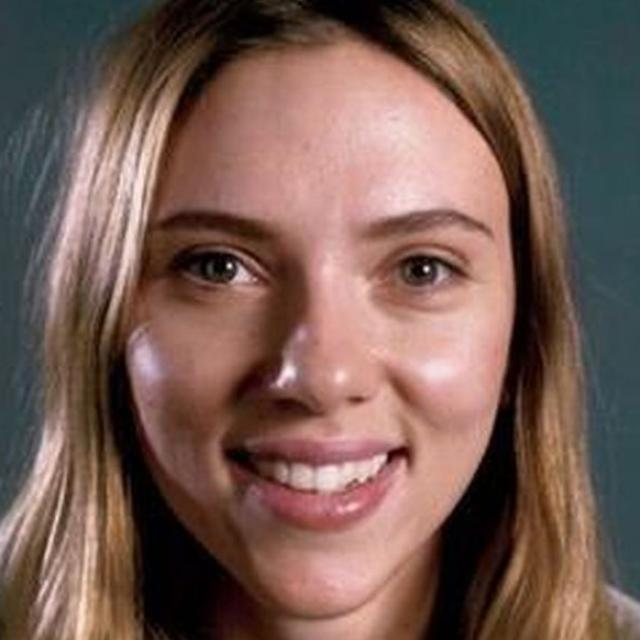Normal: (113, 44, 514, 619)
